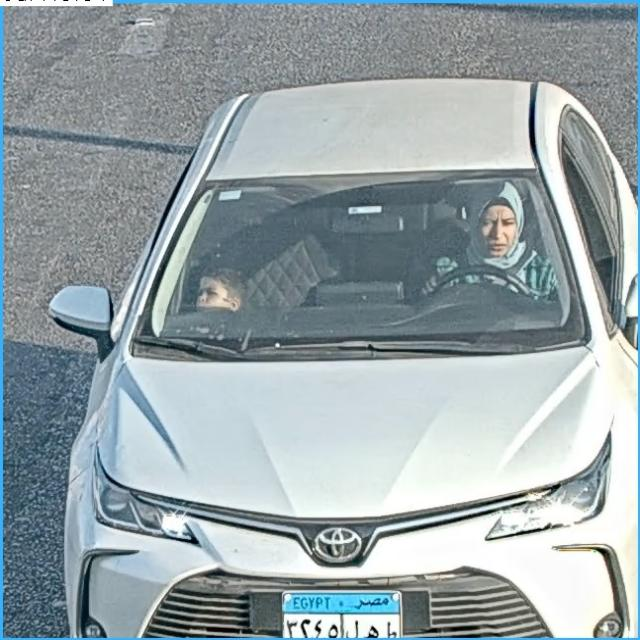windshield: (150, 179, 586, 341)
